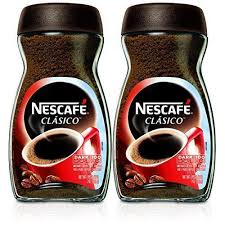nescafe-classic/gold-med: (4, 1, 111, 202), (112, 6, 215, 203)
